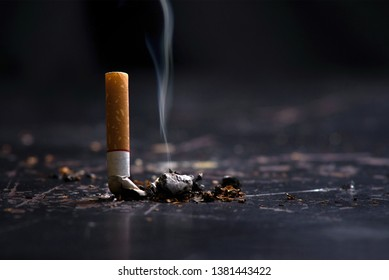cigarette: (101, 65, 149, 205)
